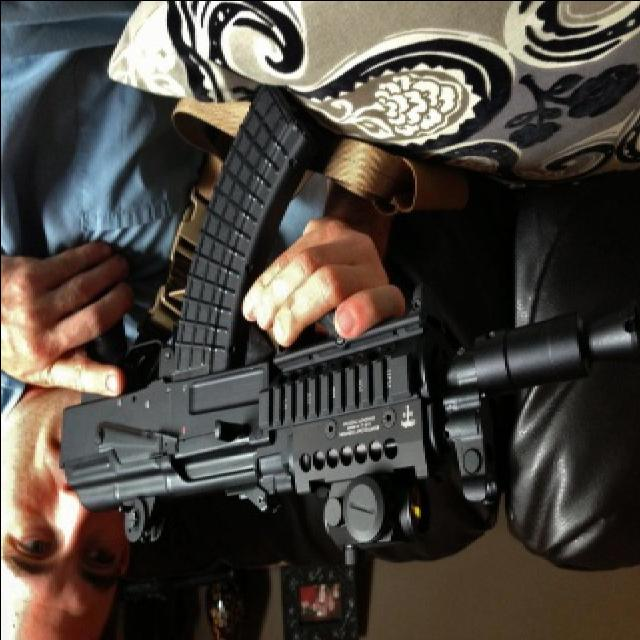rifle: (51, 85, 639, 556)
